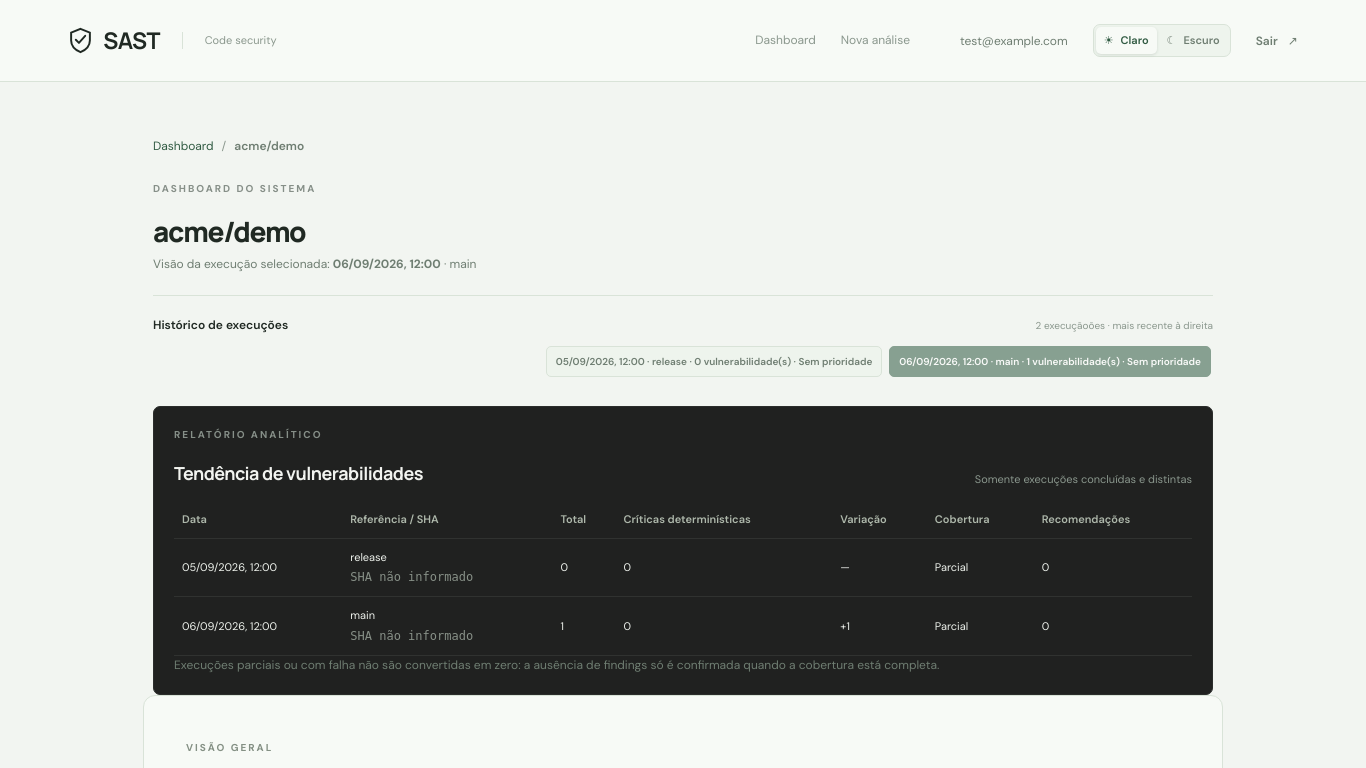
Test case: fluxo autenticado da análise › mantém o dashboard do sistema visível ao trocar uma execução do histórico
Check: the text "DASHBOARD DO SISTEMA" is shown, box x1=153 y1=182 x2=316 y2=195
Click the button "release" at (714, 362), box x1=546 y1=346 x2=882 y2=377
(page scrolled)
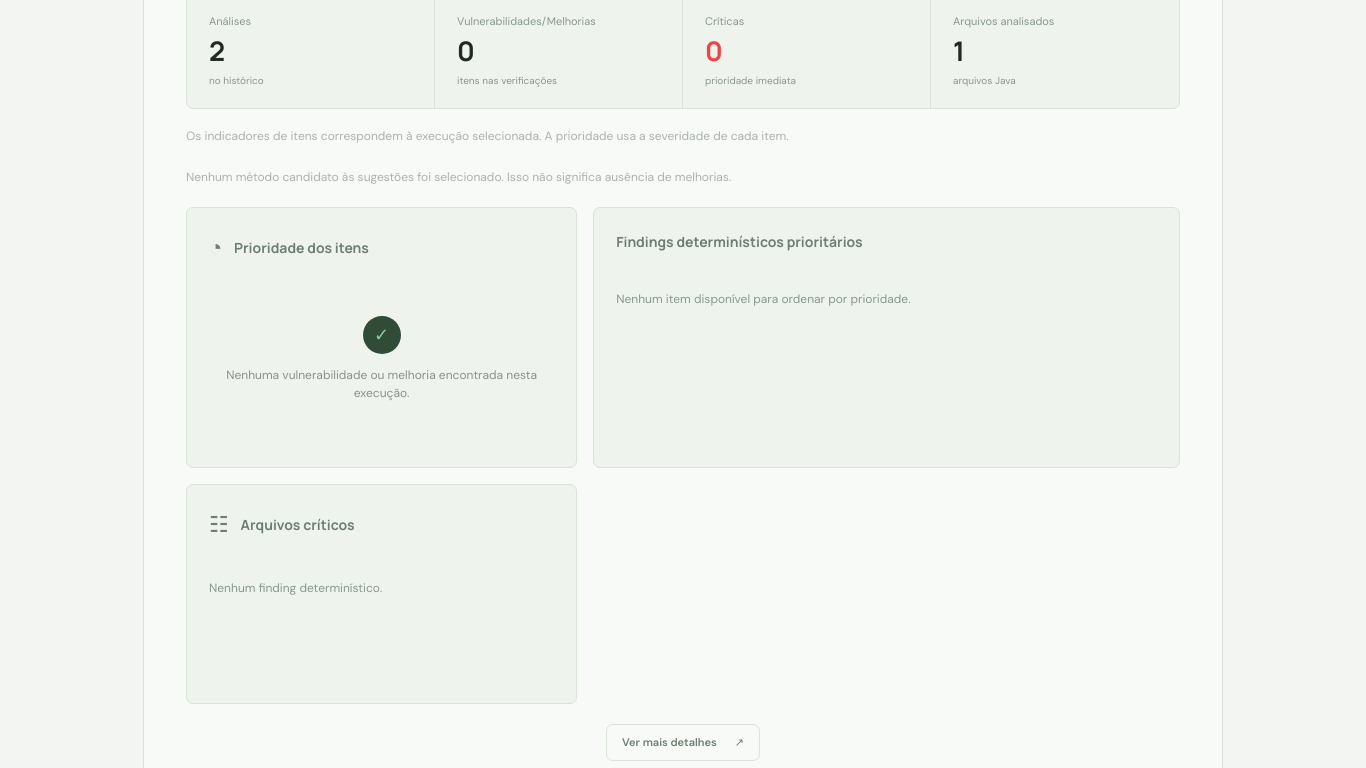
Check: the text "Nenhuma vulnerabilidade" is shown, box x1=226 y1=367 x2=537 y2=401
